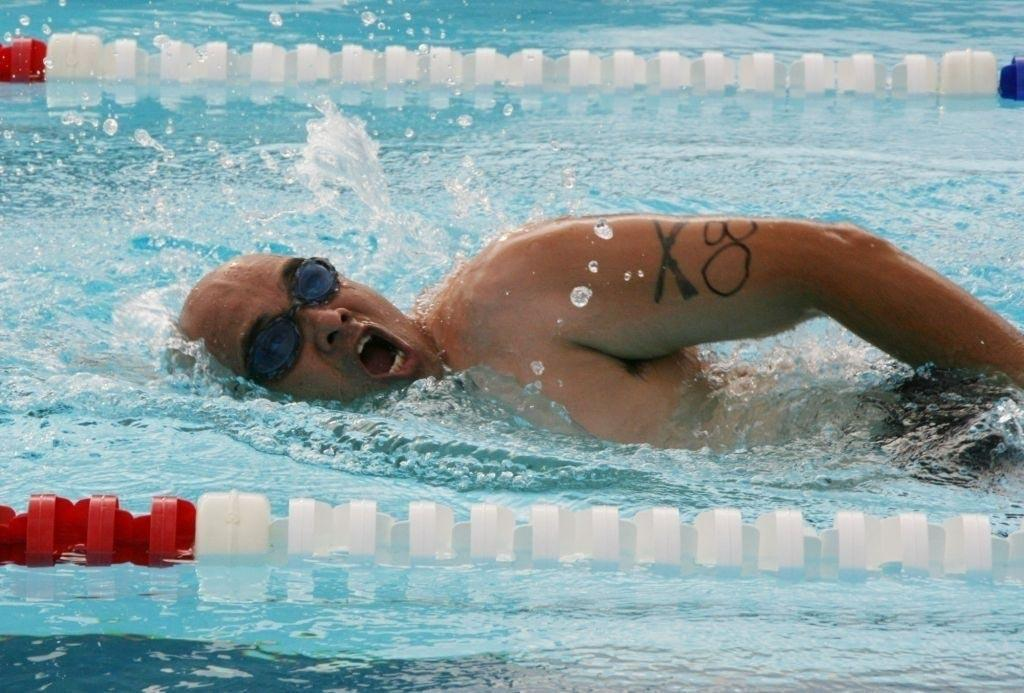face: (195, 253, 439, 425)
